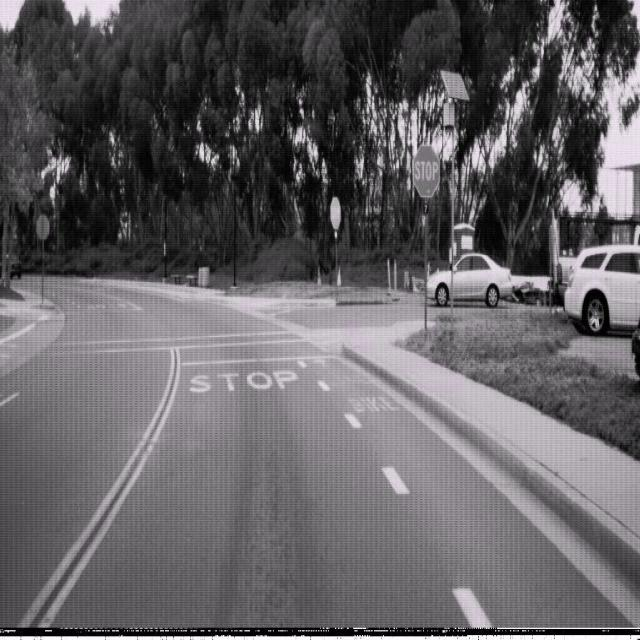stop: (412, 144, 440, 198), (329, 195, 342, 232)
